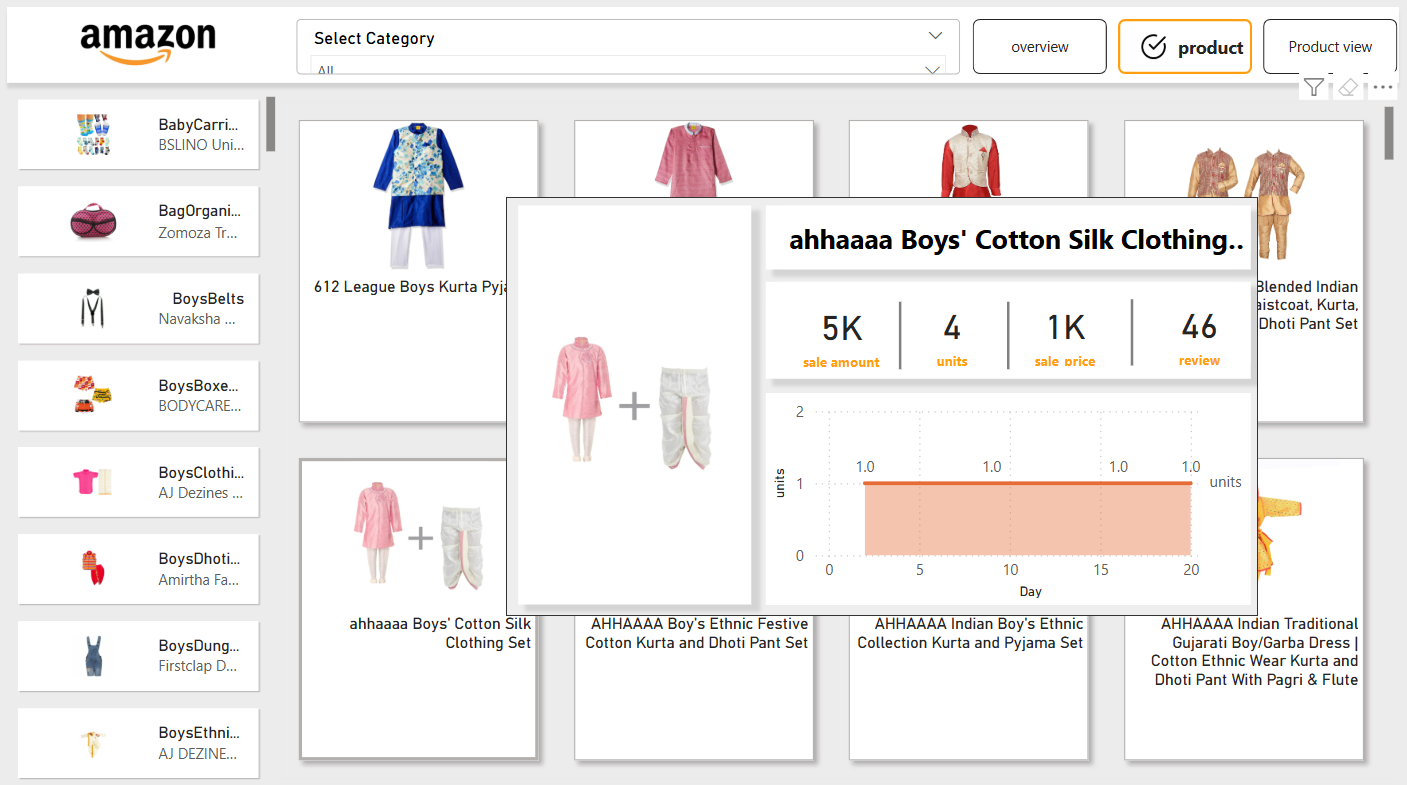

The page's visual inventory and layout, read from the dashboard file:
{"tool":"powerbi","page":{"name":"product ","canvas":[1280,720],"ordinal":1},"visuals":[{"type":"shape","box":[0,0,1280,83.3],"z":0},{"type":"image","box":[53.3,10,163.3,63.3],"z":1000},{"type":"pageNavigator","box":[885,18.3,386.7,50],"z":2000},{"type":"slicer","fields":{"Values":["amazon-fashion - YT.Category"]},"box":[270,18.3,603.3,50],"z":3000},{"type":"image","box":[1021.7,25,56.7,36.7],"z":4000},{"type":"advancedSlicerVisual","fields":{"Values":["amazon-fashion - YT.Category"]},"box":[10,83.8,246.2,636.2],"z":5000},{"type":"advancedSlicerVisual","fields":{"Values":["amazon-fashion - YT.product_name"]},"box":[255.8,92.9,1017,616.5],"z":6000}]}

Visuals, with their boxes on the page's 1280x720 design canvas (x1, y1, x2, y2). These are canvas units, not pixel positions in the 1407x785 screenshot, which may show the page scaled, cropped or inside an application window:
shape: l=0, t=0, r=1280, b=83
image: l=53, t=10, r=217, b=73
pageNavigator: l=885, t=18, r=1272, b=68
slicer - amazon-fashion - YT.Category: l=270, t=18, r=873, b=68
image: l=1022, t=25, r=1078, b=62
advancedSlicerVisual - amazon-fashion - YT.Category: l=10, t=84, r=256, b=720
advancedSlicerVisual - amazon-fashion - YT.product_name: l=256, t=93, r=1273, b=709
